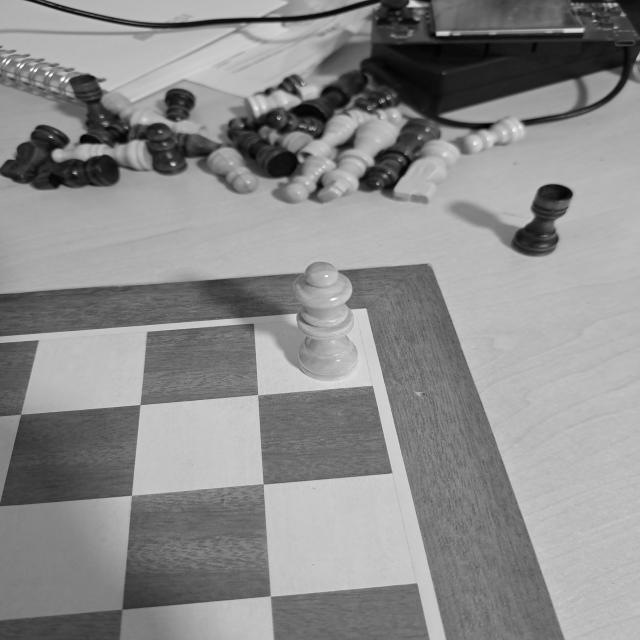chess-table-corners: (353, 300, 378, 318)
